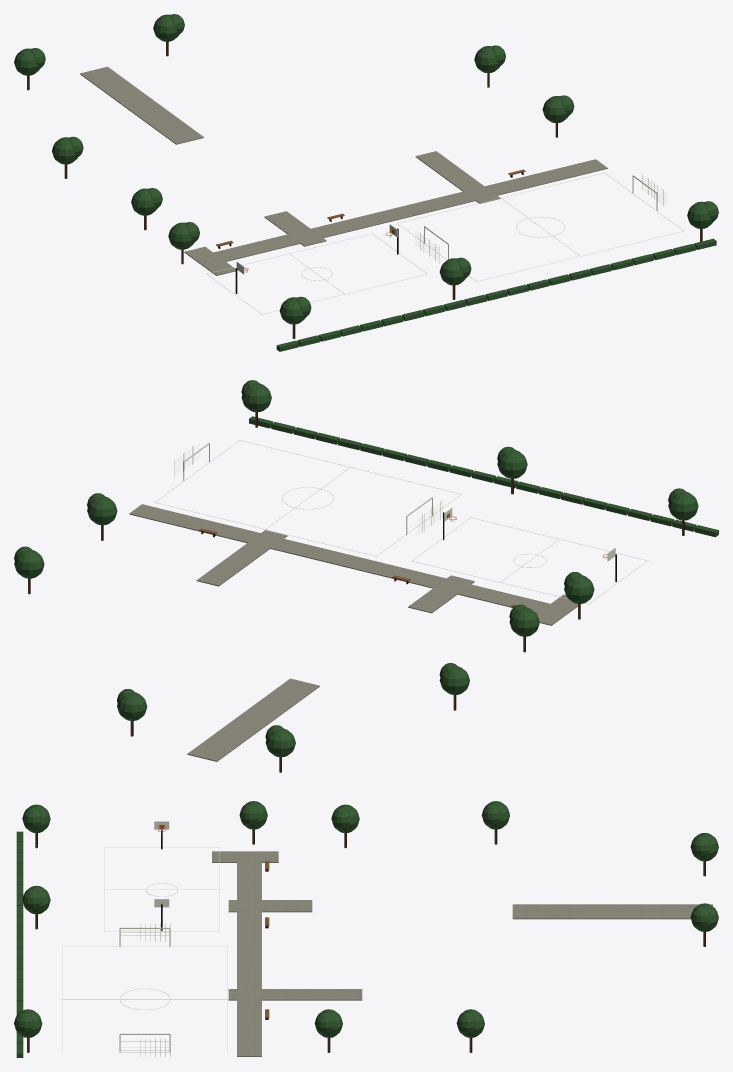
File: grounds.glb
3 views of the same model, one above another, from view 1: azimuth 30°, elevation 25°; view 2: azimuth 150°, elevation 25°; view 3: azimuth 270°, elevation 25° (orthographic). The views are drawn at different scales.
Visible parts, largest first — view 1: V2_grounds_leaf.006, V2_grounds_stone.006, V2_grounds_white.006; view 2: V2_grounds_leaf.006, V2_grounds_stone.006, V2_grounds_white.006; view 3: V2_grounds_stone.006, V2_grounds_leaf.006, V2_grounds_white.006, V2_grounds_bark.006.
Part boxes in pixels (x1=…): V2_grounds_leaf.006: x1=14, y1=14, x2=718, y2=351; V2_grounds_stone.006: x1=80, y1=66, x2=607, y2=275; V2_grounds_white.006: x1=206, y1=172, x2=684, y2=314; V2_grounds_leaf.006: x1=14, y1=380, x2=718, y2=757; V2_grounds_stone.006: x1=129, y1=504, x2=580, y2=761; V2_grounds_white.006: x1=154, y1=440, x2=648, y2=604; V2_grounds_stone.006: x1=212, y1=851, x2=712, y2=1056; V2_grounds_leaf.006: x1=14, y1=801, x2=718, y2=1057; V2_grounds_white.006: x1=62, y1=821, x2=228, y2=1056; V2_grounds_bark.006: x1=27, y1=829, x2=705, y2=1052.
Size of what is drawn, in the model's own units: 63.5 by 5.74 by 84.4.
Materials: 7 (2 with a texture image).
